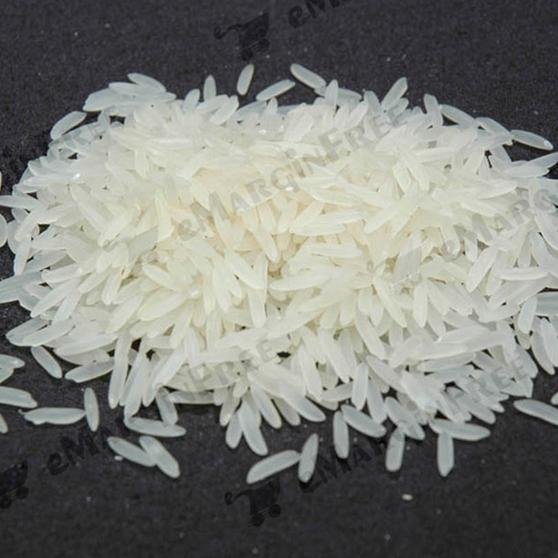rice: (94, 97, 522, 395)
